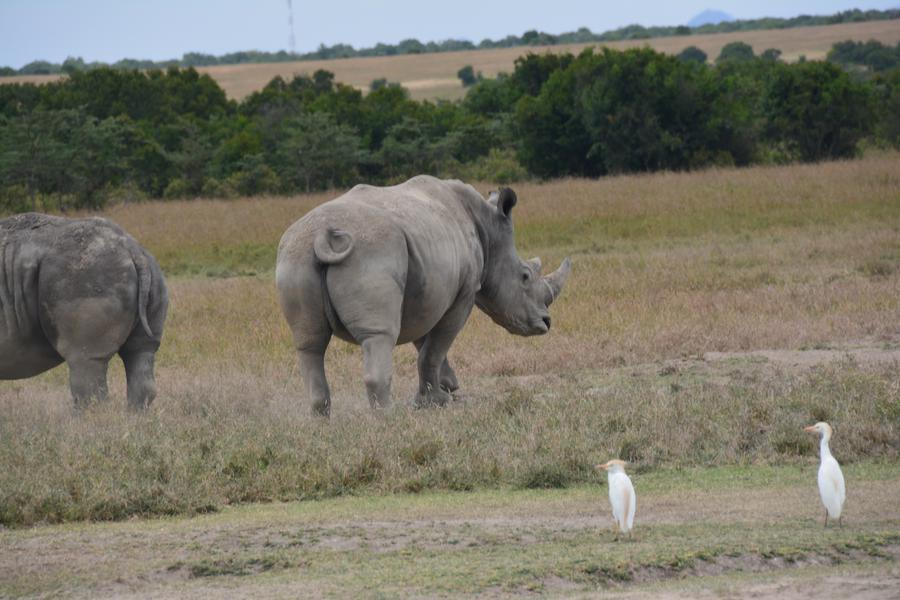rhino: (290, 160, 540, 406), (5, 208, 168, 396)
